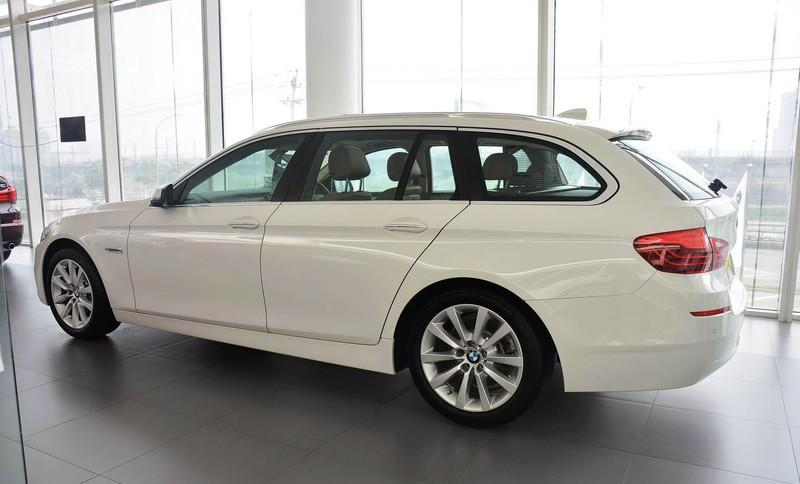Wagon: (32, 104, 750, 428)
